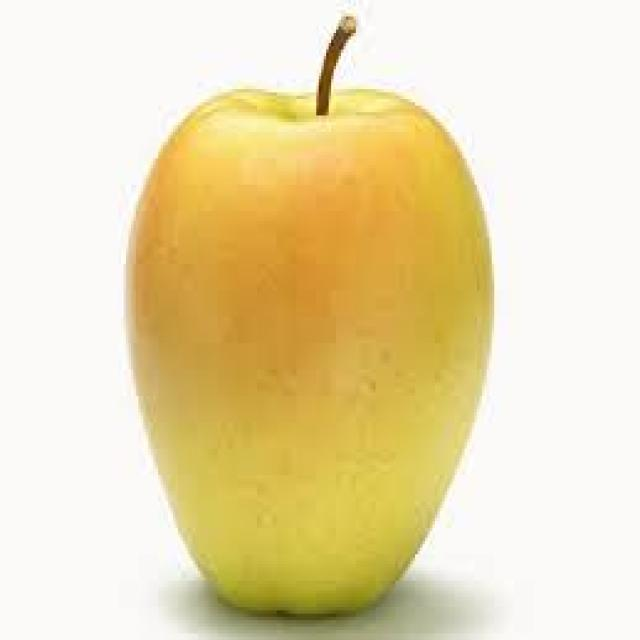apple: (115, 66, 511, 640)
